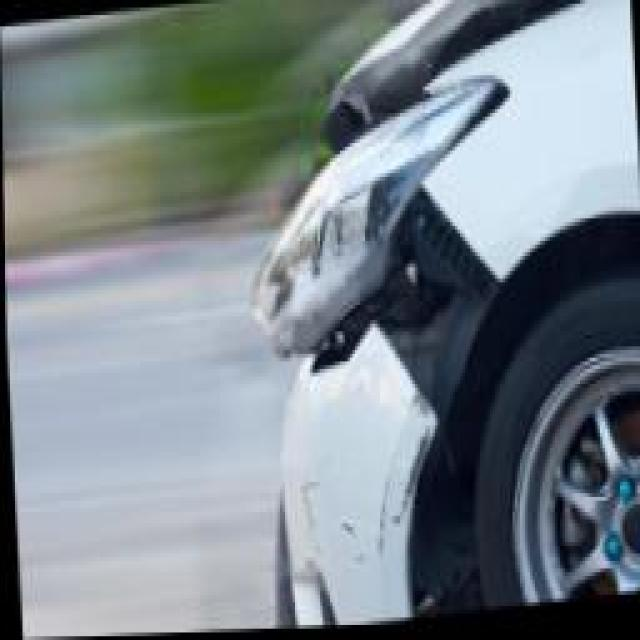Bonnet: (318, 0, 632, 113)
Bumper: (268, 361, 409, 630)
